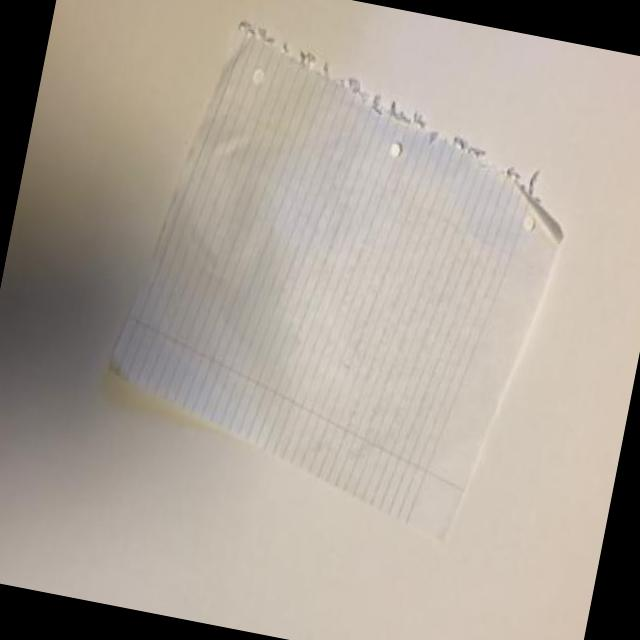paper: (126, 91, 556, 496)
